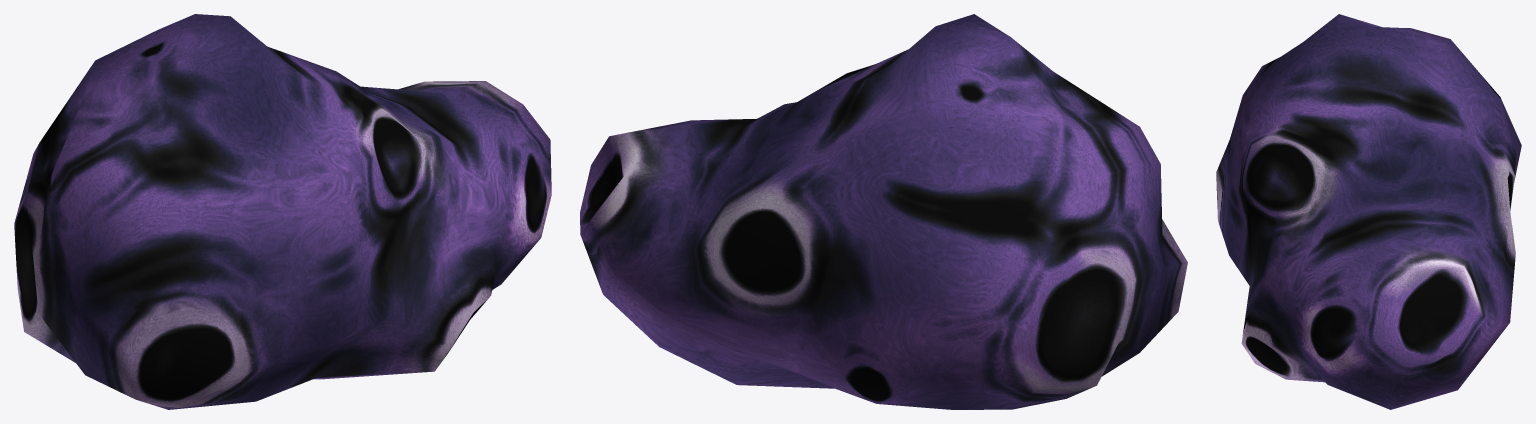
Rendered from ASTROID_02.FBX.
3 views of the same model, side by side, from view 1: azimuth 30°, elevation 25°; view 2: azimuth 150°, elevation 25°; view 3: azimuth 270°, elevation 25° (orthographic). The views are drawn at different scales.
Parts seen in each view (by area): view 1: default; view 2: default; view 3: default.
Boxes of the visible parts, box(x1,y1,x2,y2) form: default: box(14, 14, 551, 409); default: box(580, 14, 1187, 409); default: box(1216, 14, 1521, 409).
Size of the model in its own units: 21.64 by 14.19 by 13.11.
Materials: 1 (1 with a texture image).
